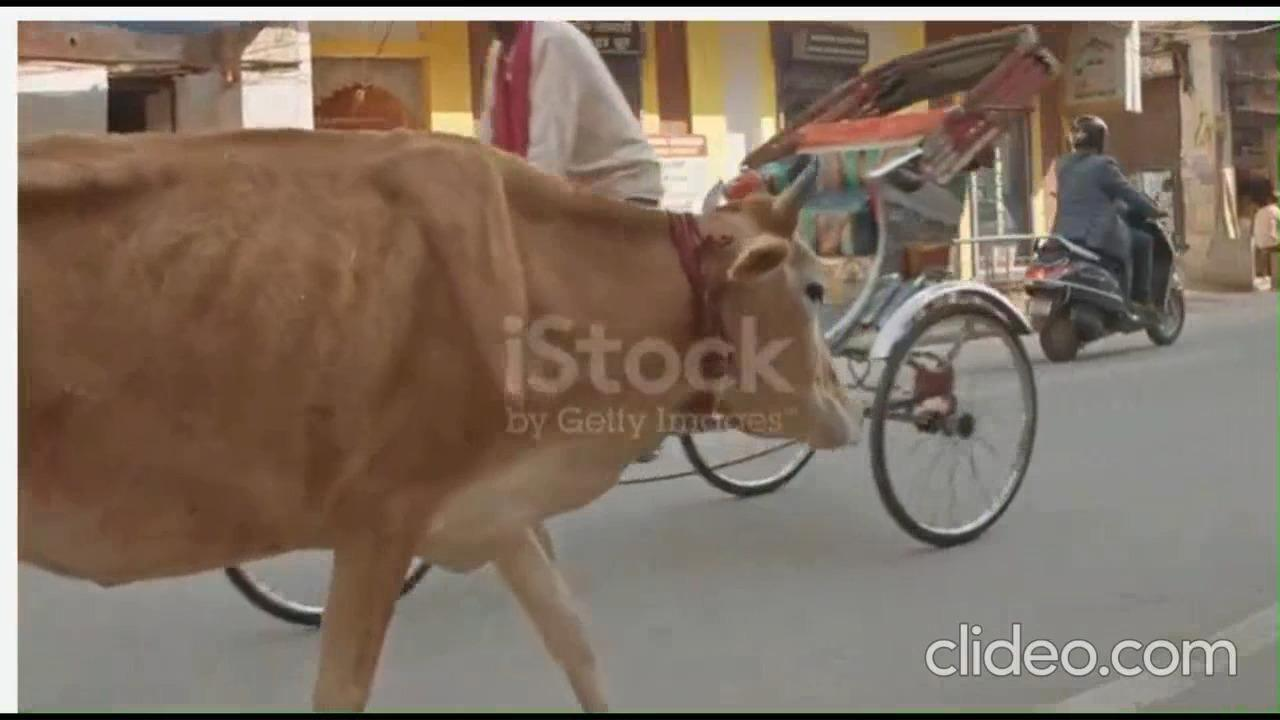Cow: (9, 130, 860, 692)
